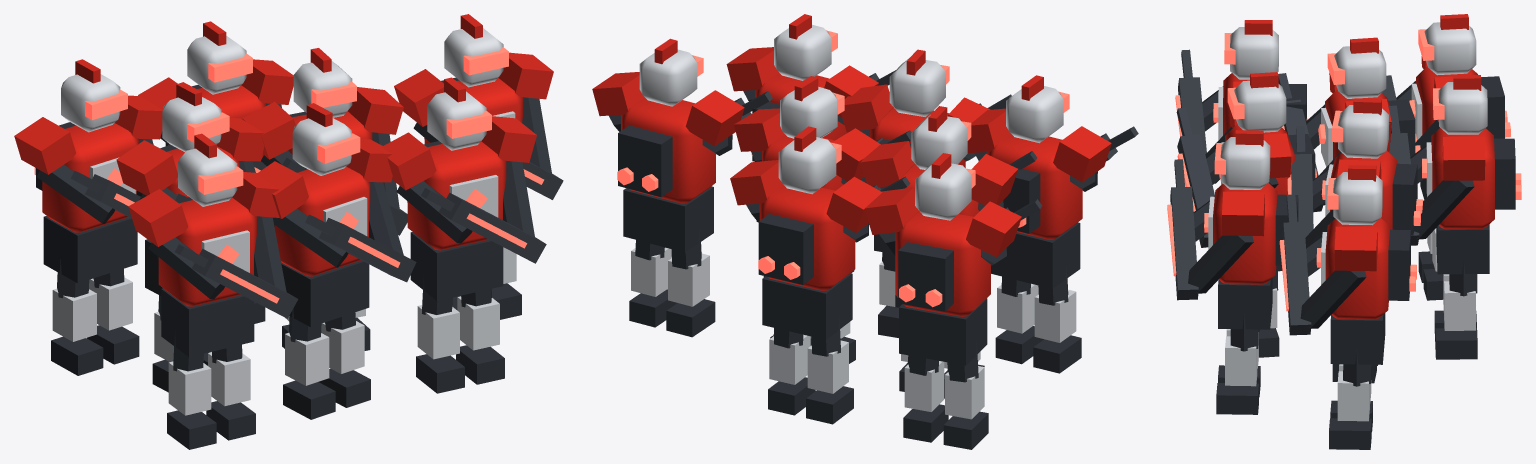
File: squad_dl8_red.glb
3 views of the same model, side by side, from view 1: azimuth 30°, elevation 25°; view 2: azimuth 150°, elevation 25°; view 3: azimuth 270°, elevation 25° (orthographic). The views are drawn at different scales.
Visible parts, largest first — view 1: squad_dl8_red; view 2: squad_dl8_red; view 3: squad_dl8_red.
Part boxes in pixels (bbox=[...]): squad_dl8_red: bbox=[14, 14, 563, 449]; squad_dl8_red: bbox=[592, 14, 1138, 449]; squad_dl8_red: bbox=[1167, 14, 1521, 449].
Size of the model in its own units: 0.7309 by 0.428 by 0.5139.
2 materials, 1 textured.
